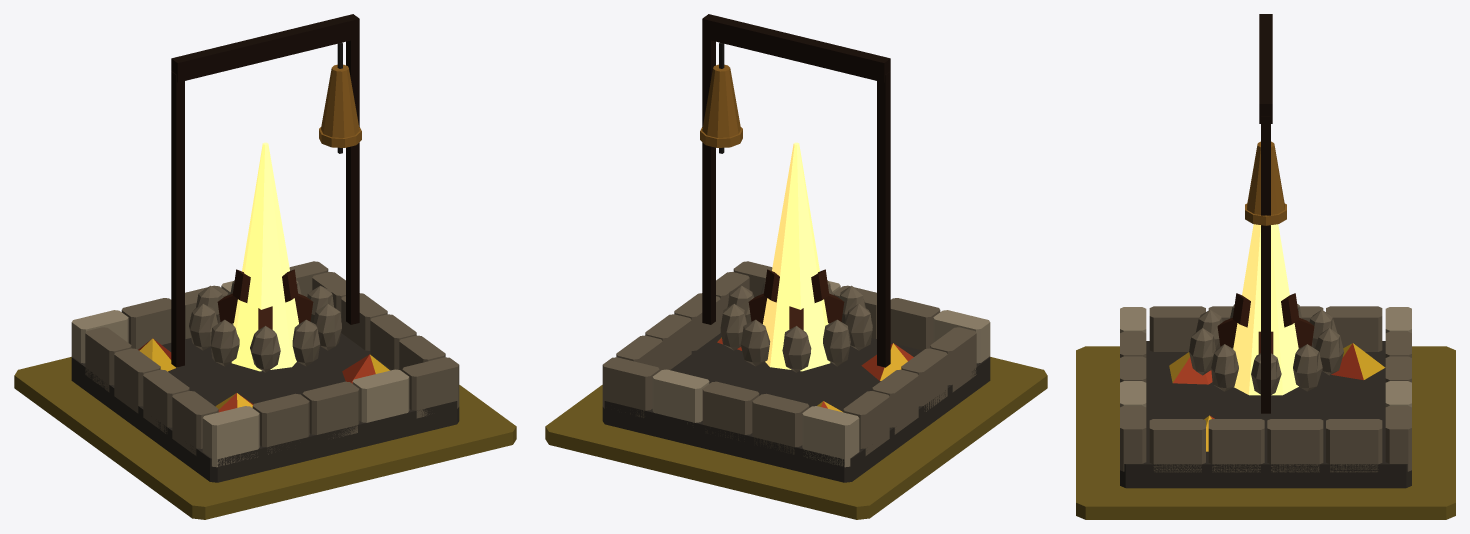
Rendered from watchfire_t3.glb.
3 renders of one model, left to right at view 1: azimuth 30°, elevation 25°; view 2: azimuth 150°, elevation 25°; view 3: azimuth 270°, elevation 25°, orthographic.
Visible parts, largest first — view 1: MMR | watchfire | T03 Architecture.001, MMR | watchfire | Tier 03 Ground.001, MMR | watchfire | T03 Flame Glow.001, MMR | watchfire | T03 Autumn Dressing.001; view 2: MMR | watchfire | T03 Architecture.001, MMR | watchfire | Tier 03 Ground.001, MMR | watchfire | T03 Flame Glow.001, MMR | watchfire | T03 Autumn Dressing.001; view 3: MMR | watchfire | T03 Architecture.001, MMR | watchfire | Tier 03 Ground.001, MMR | watchfire | T03 Flame Glow.001, MMR | watchfire | T03 Autumn Dressing.001.
Boxes of the visible parts, x1=… form: MMR | watchfire | T03 Architecture.001: x1=71, y1=14, x2=459, y2=482; MMR | watchfire | Tier 03 Ground.001: x1=14, y1=357, x2=516, y2=519; MMR | watchfire | T03 Flame Glow.001: x1=231, y1=142, x2=298, y2=371; MMR | watchfire | T03 Autumn Dressing.001: x1=138, y1=338, x2=389, y2=412; MMR | watchfire | T03 Architecture.001: x1=602, y1=14, x2=990, y2=482; MMR | watchfire | Tier 03 Ground.001: x1=545, y1=357, x2=1047, y2=519; MMR | watchfire | T03 Flame Glow.001: x1=763, y1=142, x2=830, y2=371; MMR | watchfire | T03 Autumn Dressing.001: x1=717, y1=337, x2=913, y2=412; MMR | watchfire | T03 Architecture.001: x1=1120, y1=14, x2=1411, y2=488; MMR | watchfire | Tier 03 Ground.001: x1=1076, y1=346, x2=1455, y2=519; MMR | watchfire | T03 Flame Glow.001: x1=1233, y1=224, x2=1298, y2=395; MMR | watchfire | T03 Autumn Dressing.001: x1=1169, y1=343, x2=1385, y2=451.
Bounding box in the file's own units: 1.3 × 1.44 × 1.3.
Materials: 2 (1 with a texture image).
